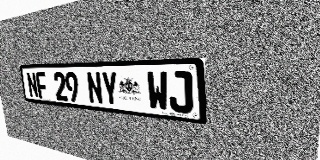2: (53, 72, 68, 101)
9: (64, 72, 80, 102)
F: (35, 72, 49, 99)
J: (168, 71, 193, 114)
N: (86, 72, 103, 105), (26, 72, 39, 98)
W: (146, 71, 169, 112)
Y: (101, 71, 119, 106)
